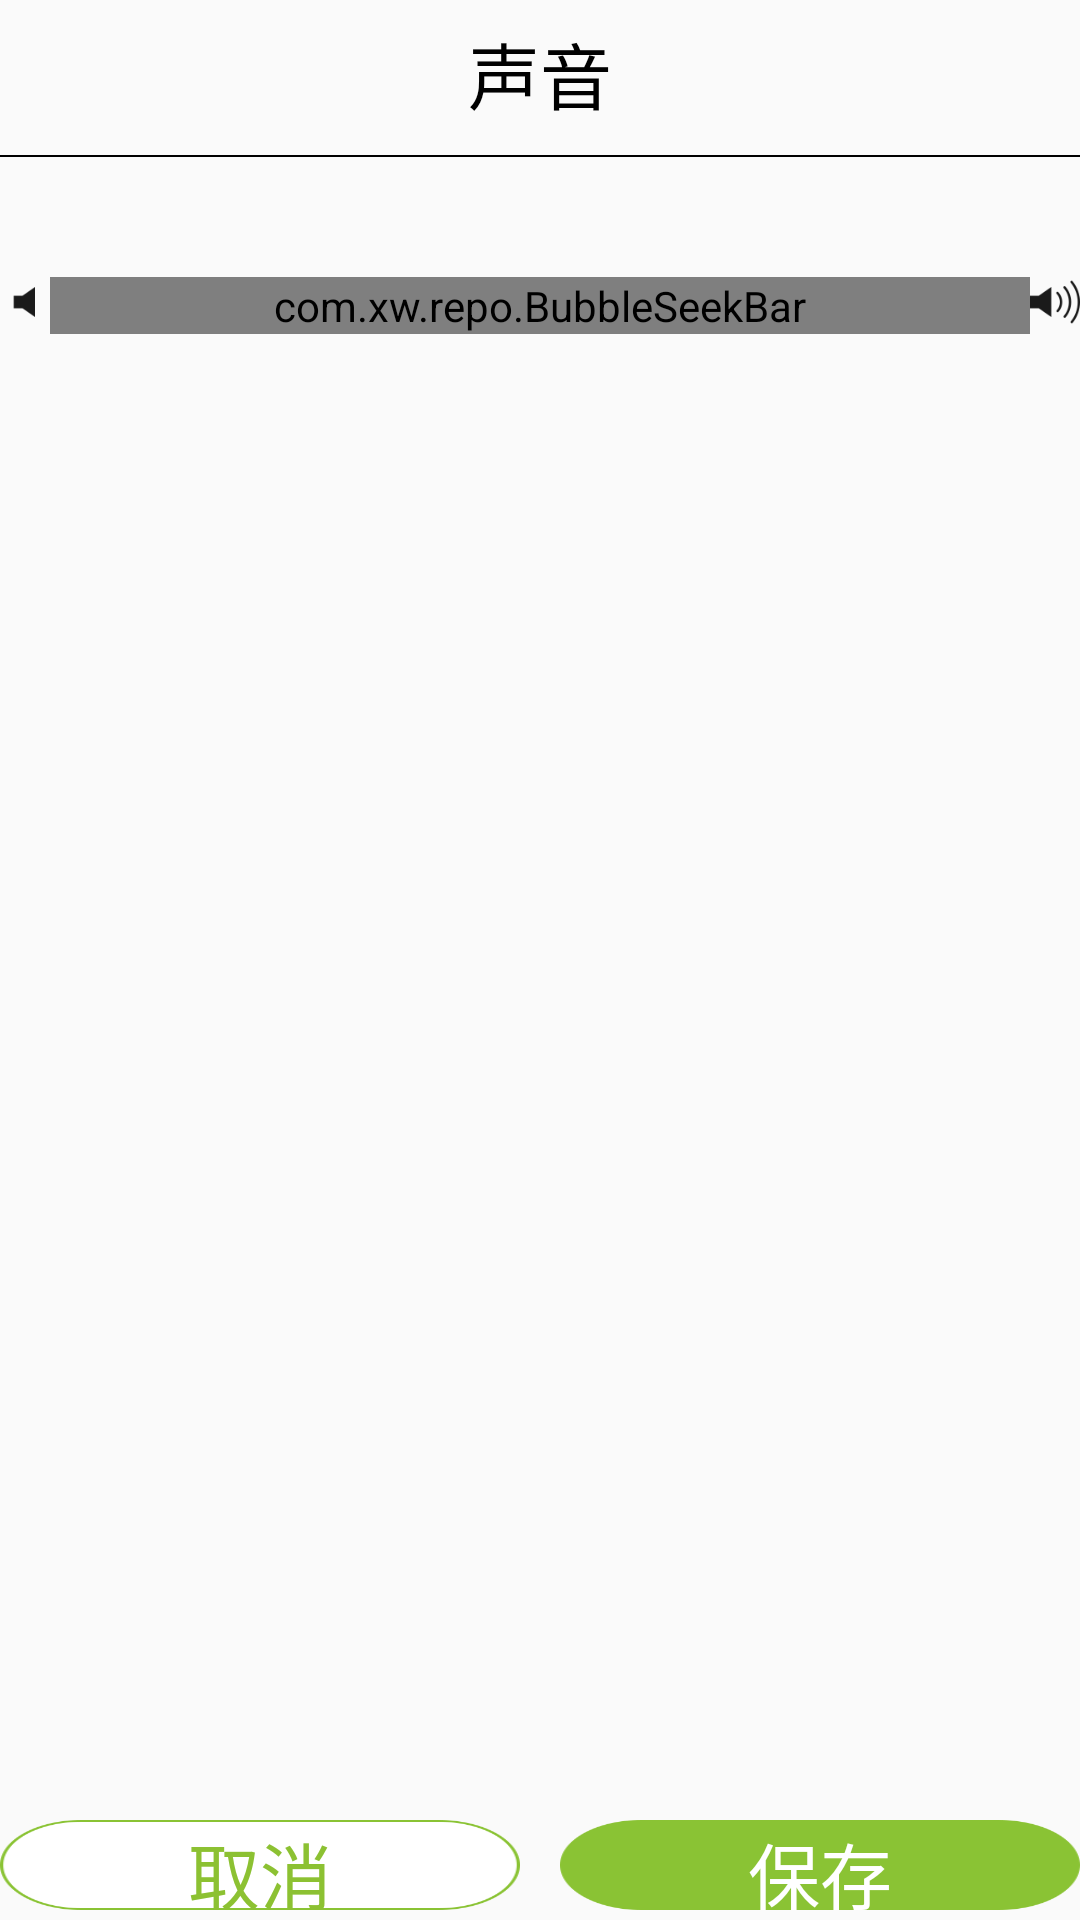

Icon click points for this 1080×1920 phone screenshot, format (x,y):
icom volume: (24,302)
volume max: (1055,302)
